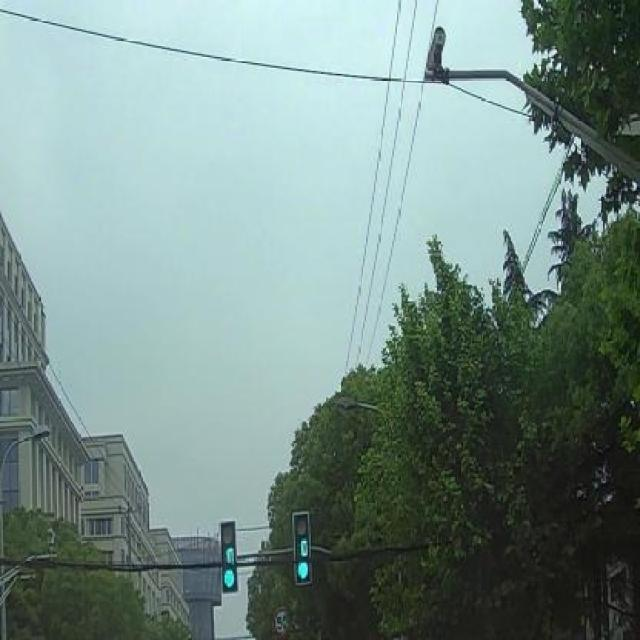forb_speed_over_50: (273, 606, 292, 640)
